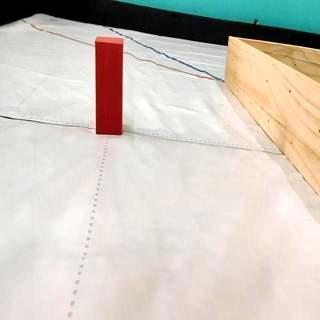redbox: (94, 35, 122, 134)
